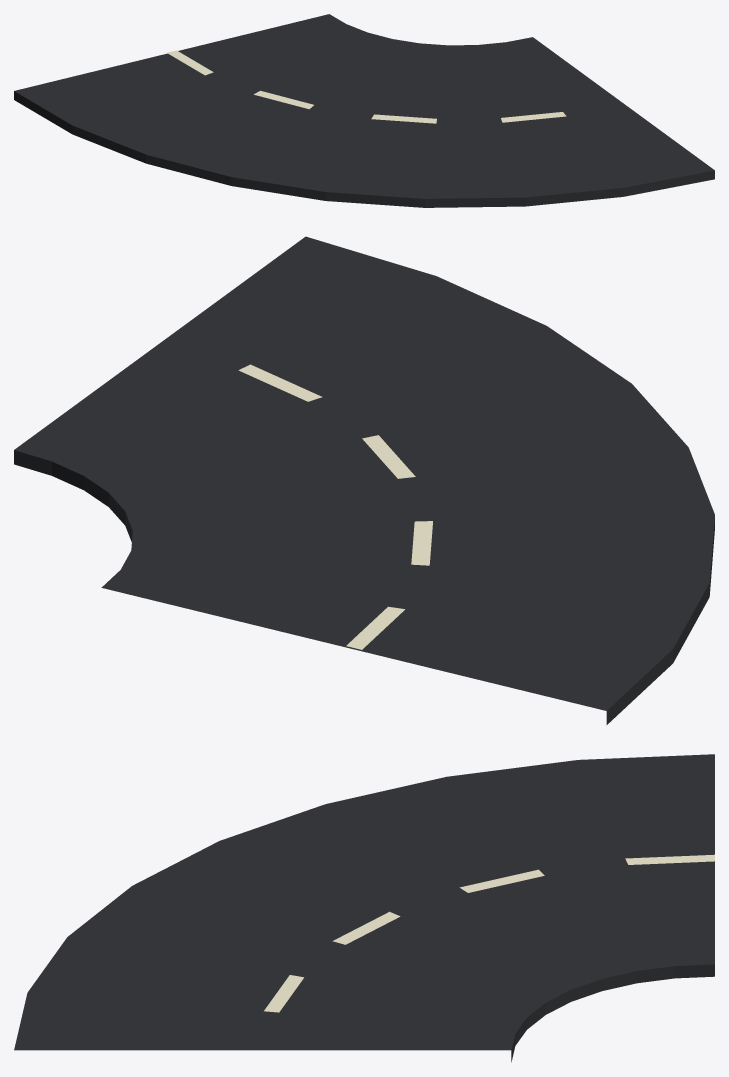
Rendered from road_highway_curve.glb.
3 renders of one model, top to bottom at view 1: azimuth 30°, elevation 25°; view 2: azimuth 150°, elevation 25°; view 3: azimuth 270°, elevation 25°, orthographic. The views are drawn at different scales.
Parts seen in each view (by area): view 1: body; view 2: body; view 3: body.
Boxes of the visible parts, x1,y1,x2,y2 form: body: [14, 14, 714, 207]; body: [14, 236, 714, 724]; body: [14, 754, 714, 1062].
Size of what is drawn, in the model's own units: 6.2 by 0.132 by 6.2.
